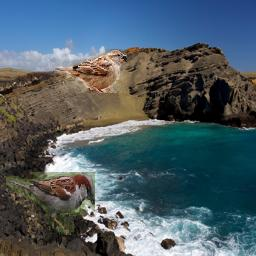Sparrow: (7, 173, 96, 236), (55, 49, 128, 93)
